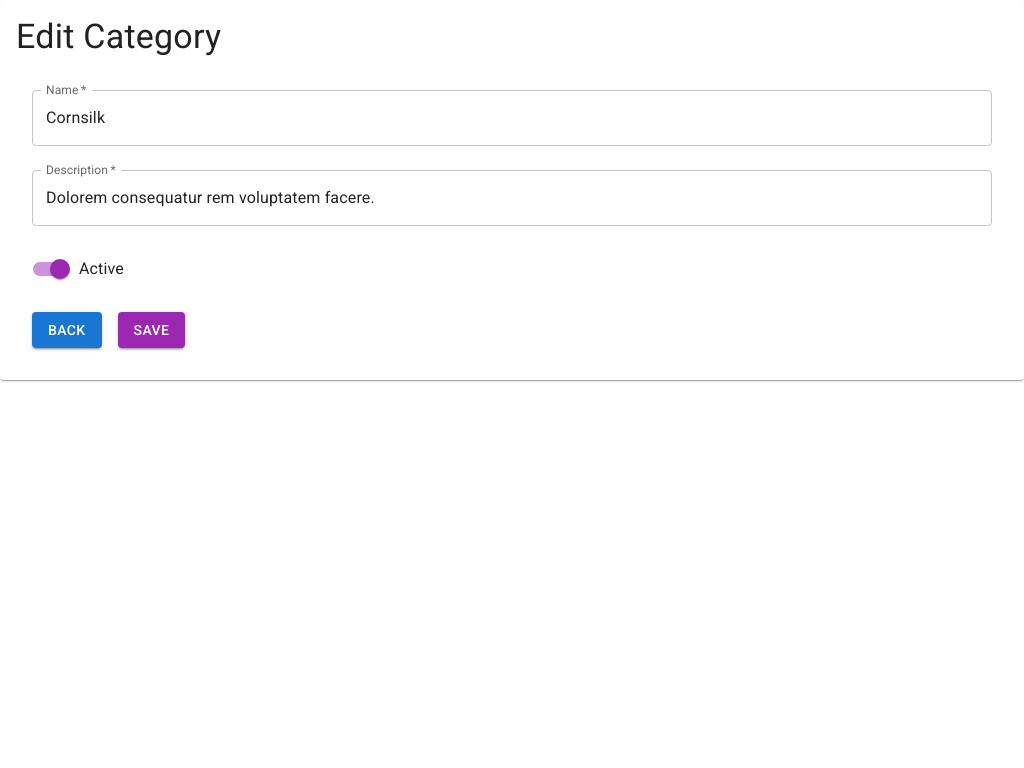
Test case: Test EditCategory page › should handle submit
The width and height of the screenshot is (1024, 768).
Replace the text in the field with test id "name-input" with "Test Name" at (512, 118), box [32,90,992,146]
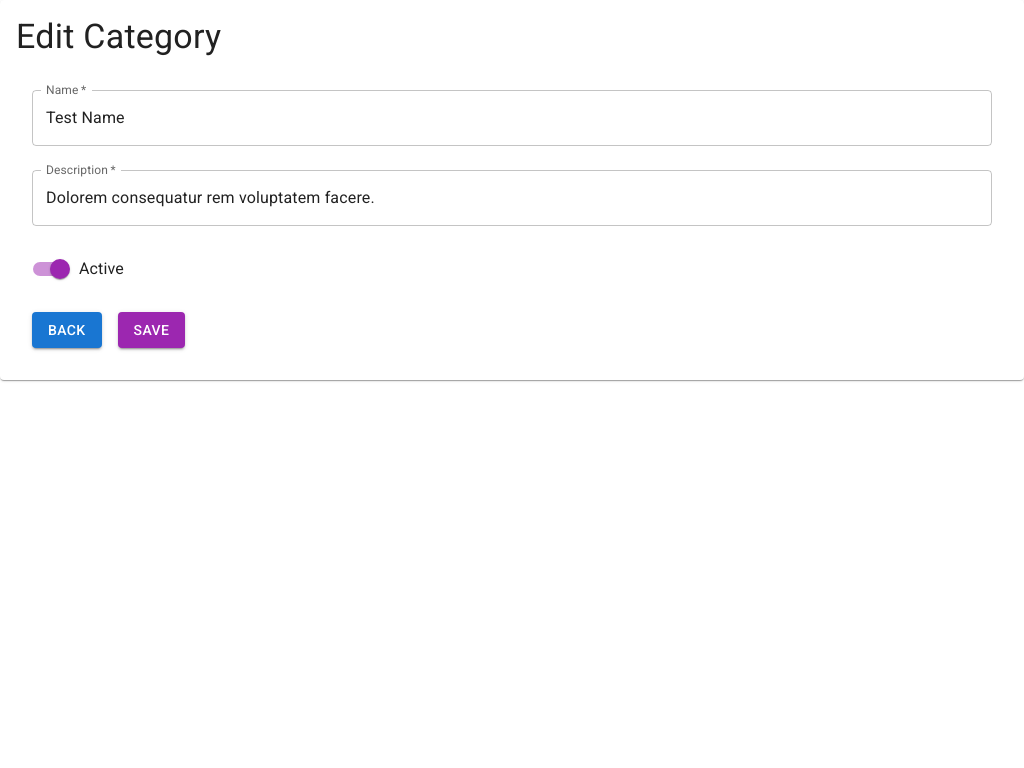
Replace the text in the field with test id "description-input" with "Test Description" at (512, 198), box [32,170,992,226]
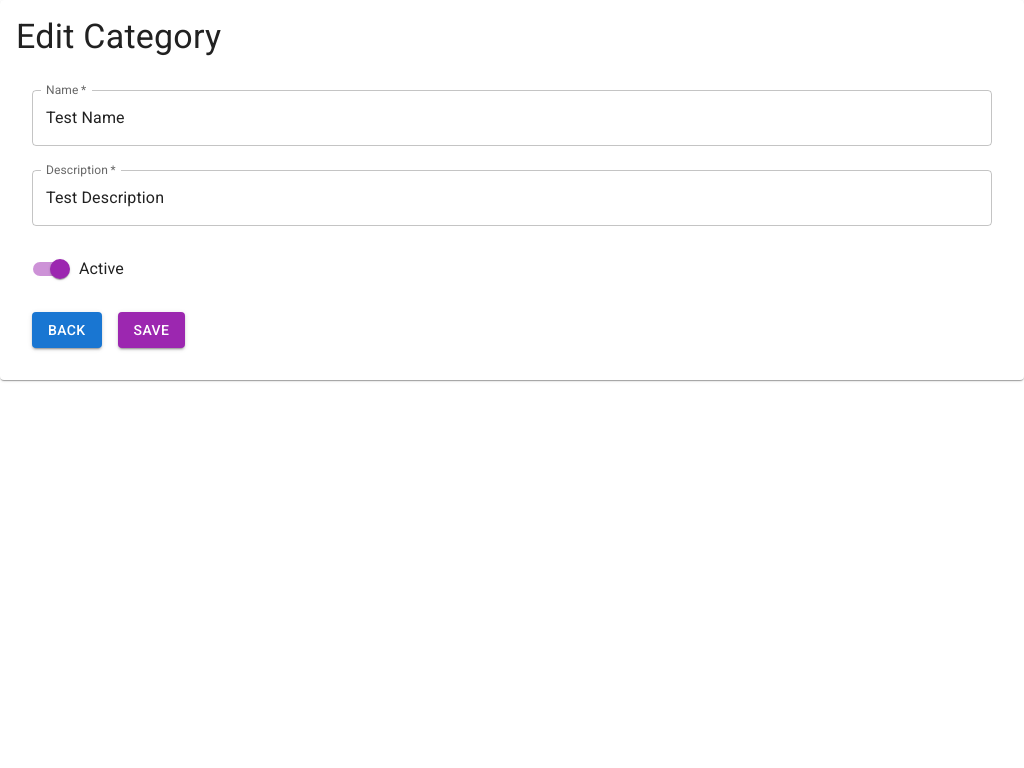
Click the element with test id "is-active-input" at (60, 269), box [50,259,70,279]
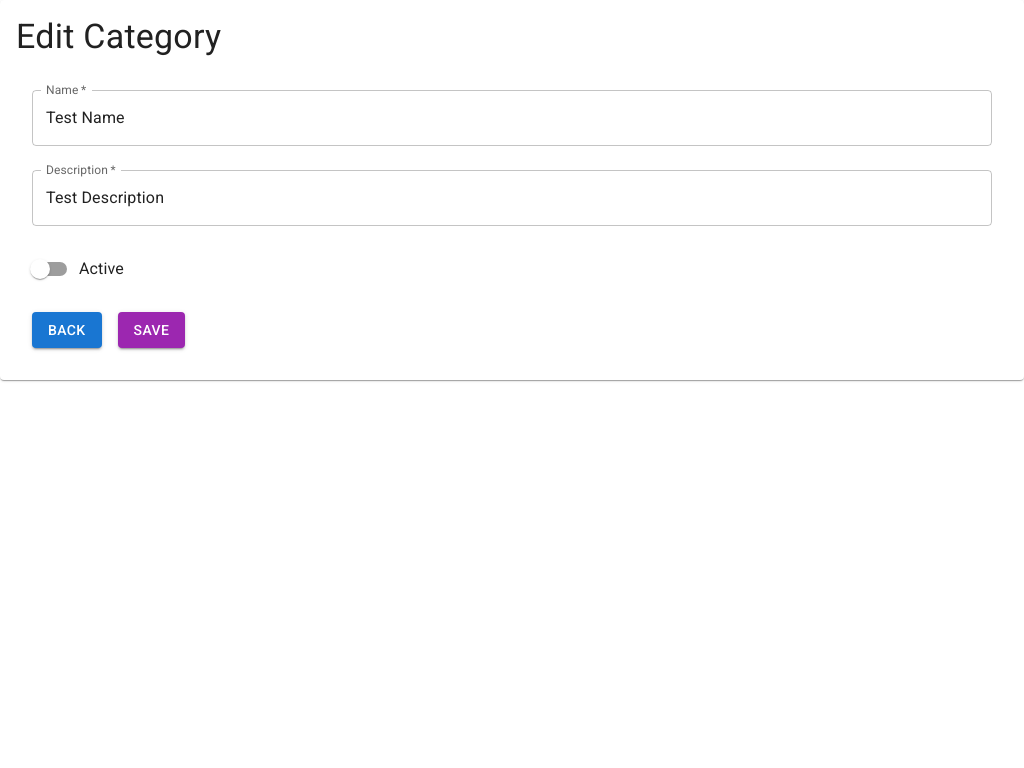
Click the button "Save" at (152, 330), box [118,312,185,348]
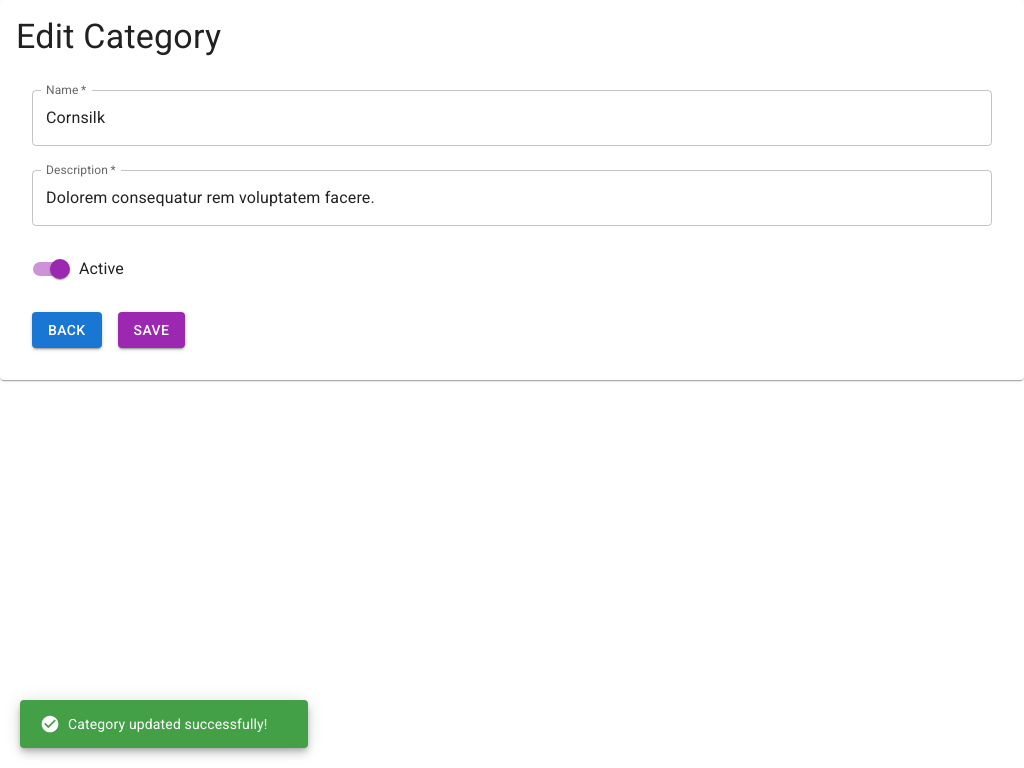
Expected: the text "Category updated successfully!" is shown, [40,714,268,734]
